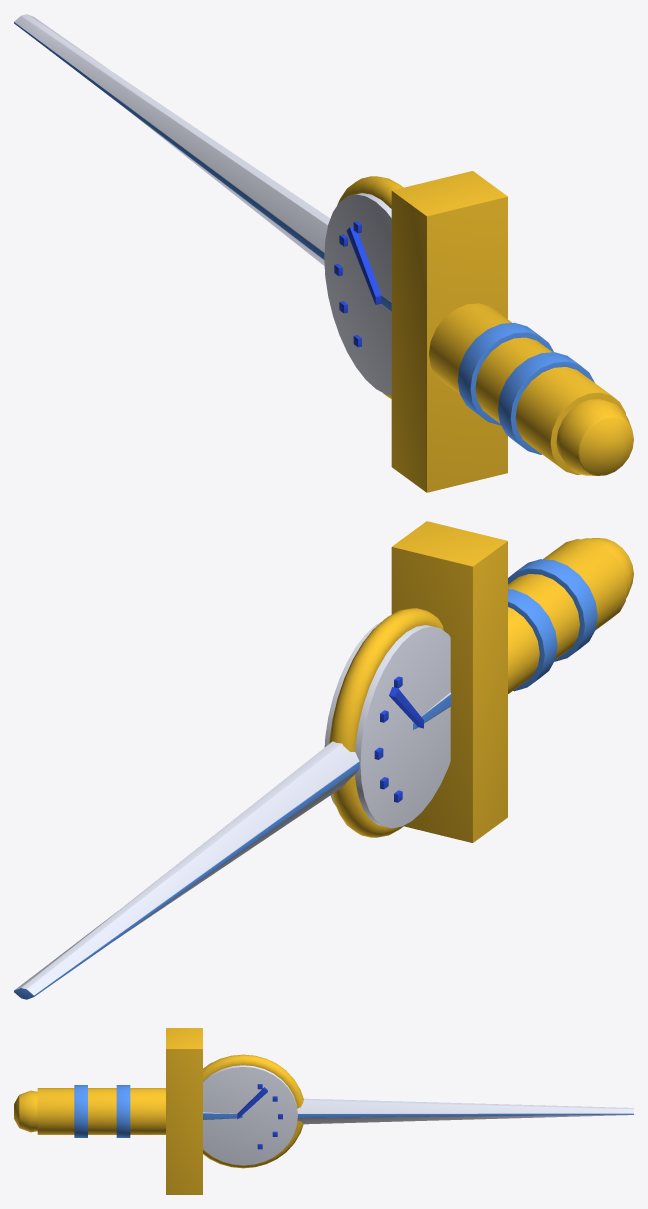
Rendered from Sword_BarometerRapier.glb.
3 views of the same model, one above another, from view 1: azimuth 30°, elevation 25°; view 2: azimuth 150°, elevation 25°; view 3: azimuth 270°, elevation 25° (orthographic). The views are drawn at different scales.
Visible parts, largest first — view 1: Sword_BarometerRapier; view 2: Sword_BarometerRapier; view 3: Sword_BarometerRapier.
Part boxes in pixels (x1,y1,x2,y2): Sword_BarometerRapier: (14,14,633,492); Sword_BarometerRapier: (14,521,633,999); Sword_BarometerRapier: (14,1028,633,1194).
Bounding box in the file's own units: 0.086 × 0.26 × 1.
Materials: 1 (1 with a texture image).
